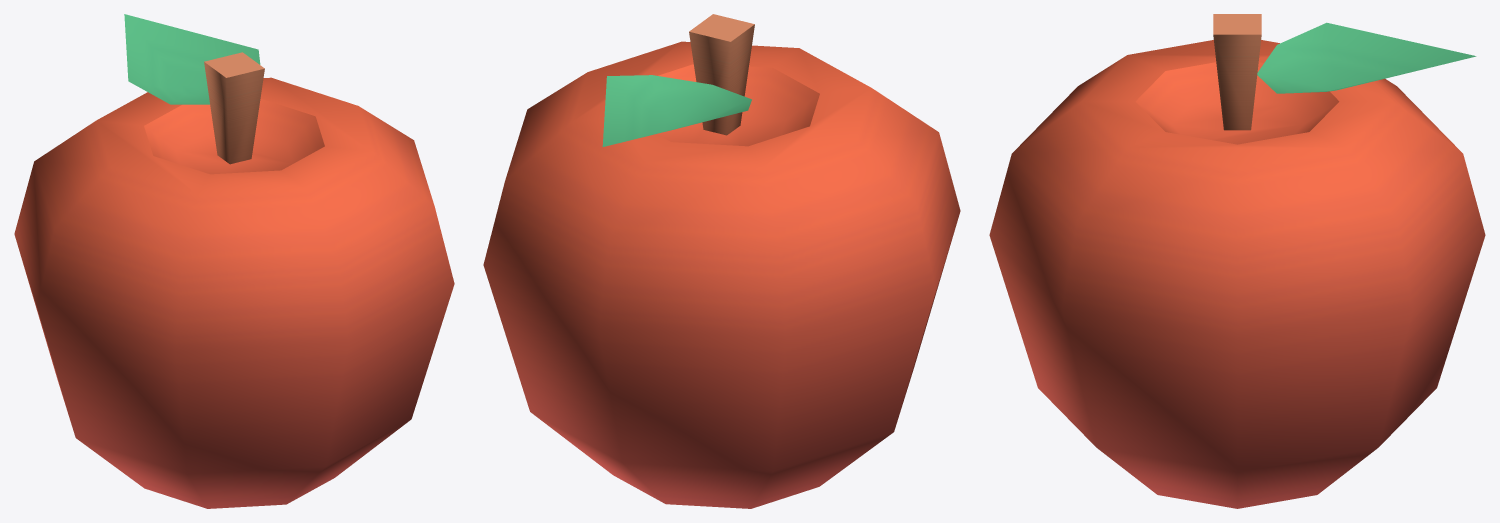
The model's file is apple.obj.
3 views of the same model, side by side, from view 1: azimuth 30°, elevation 25°; view 2: azimuth 150°, elevation 25°; view 3: azimuth 270°, elevation 25° (orthographic). The views are drawn at different scales.
Parts seen in each view (by area): view 1: apple; view 2: apple; view 3: apple.
Part boxes in pixels (x1,y1,x2,y2): apple: (14, 14, 454, 508); apple: (483, 14, 960, 508); apple: (989, 14, 1485, 508).
Size of the model in its own units: 0.1963 by 0.1908 by 0.1963.
1 material, 1 textured.
